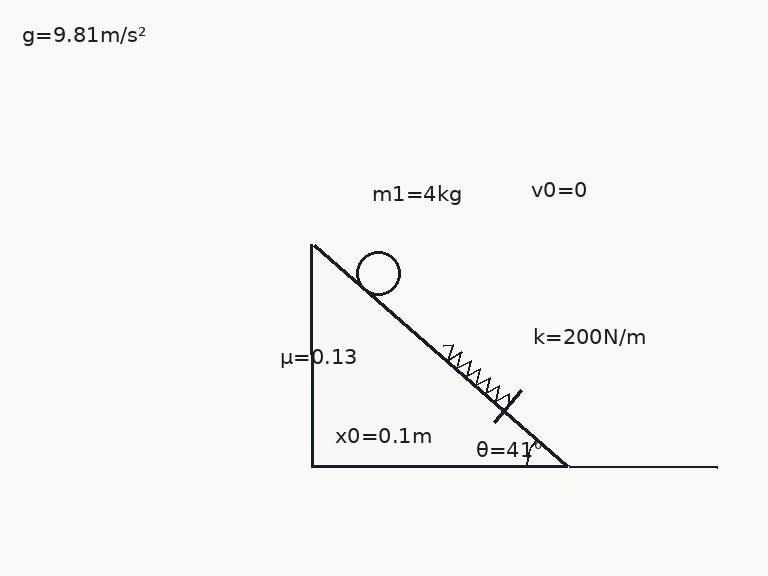ball: (354, 249, 402, 297)
ramp: (310, 242, 569, 468)
spring: (441, 343, 511, 406)
